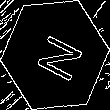N_NW: (27, 26, 83, 84)
